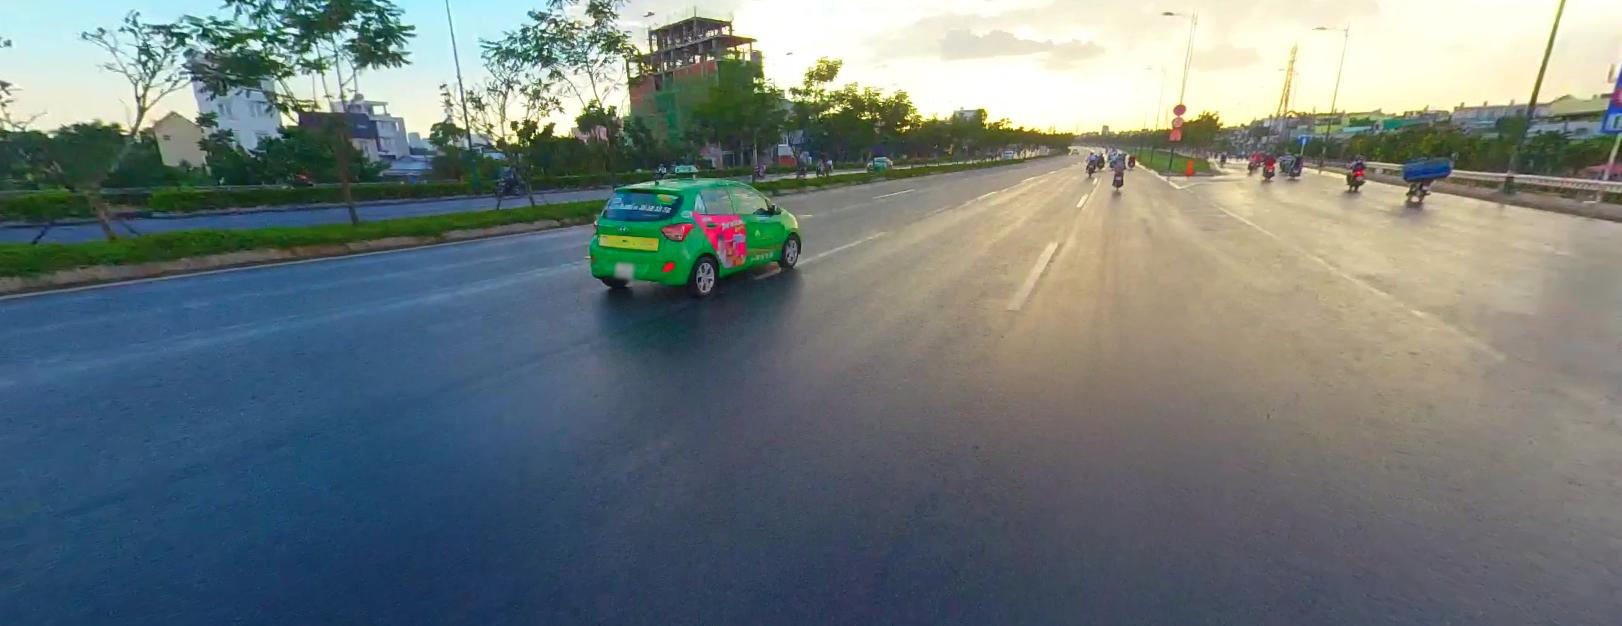Cam con lai: (1171, 116, 1182, 127)
Cam dung va do: (1173, 102, 1185, 114)
